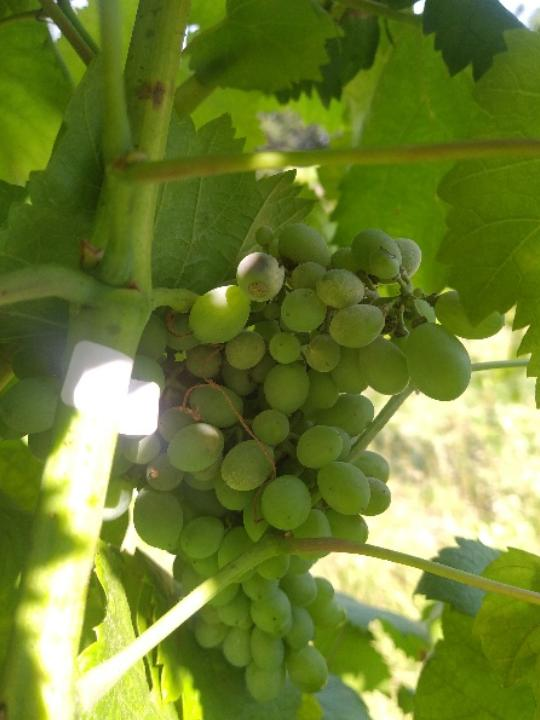grape: (0, 215, 511, 710)
